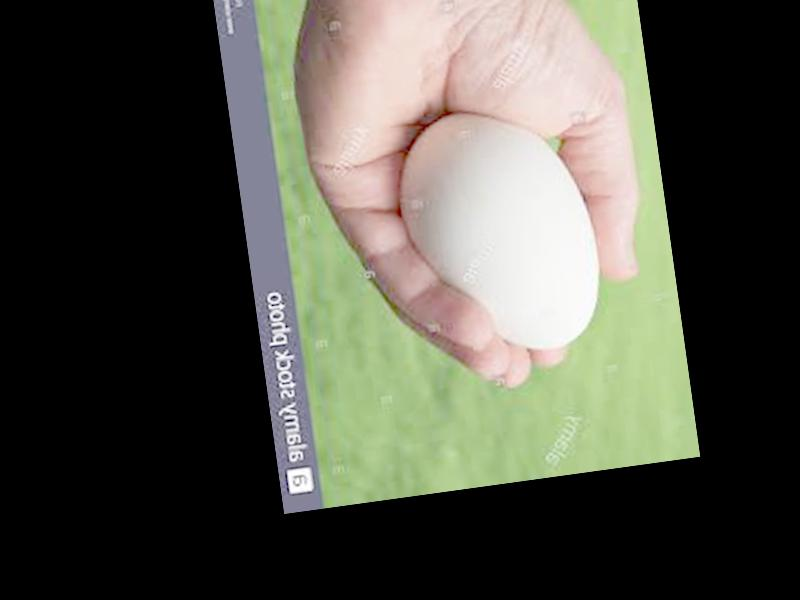Eggs: (388, 93, 610, 365)
